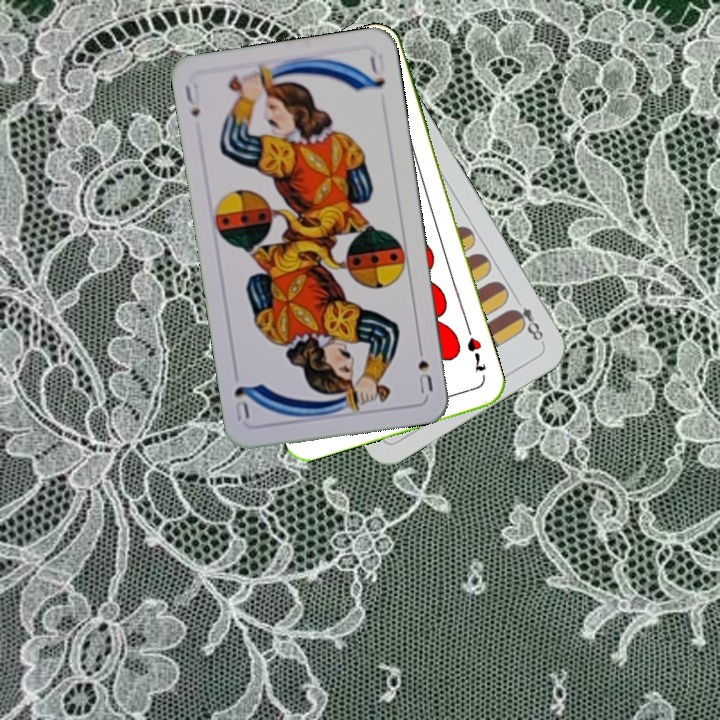E8: (507, 302, 547, 346)
H7: (463, 333, 488, 375)
SU: (413, 338, 436, 397), (180, 79, 203, 120)
